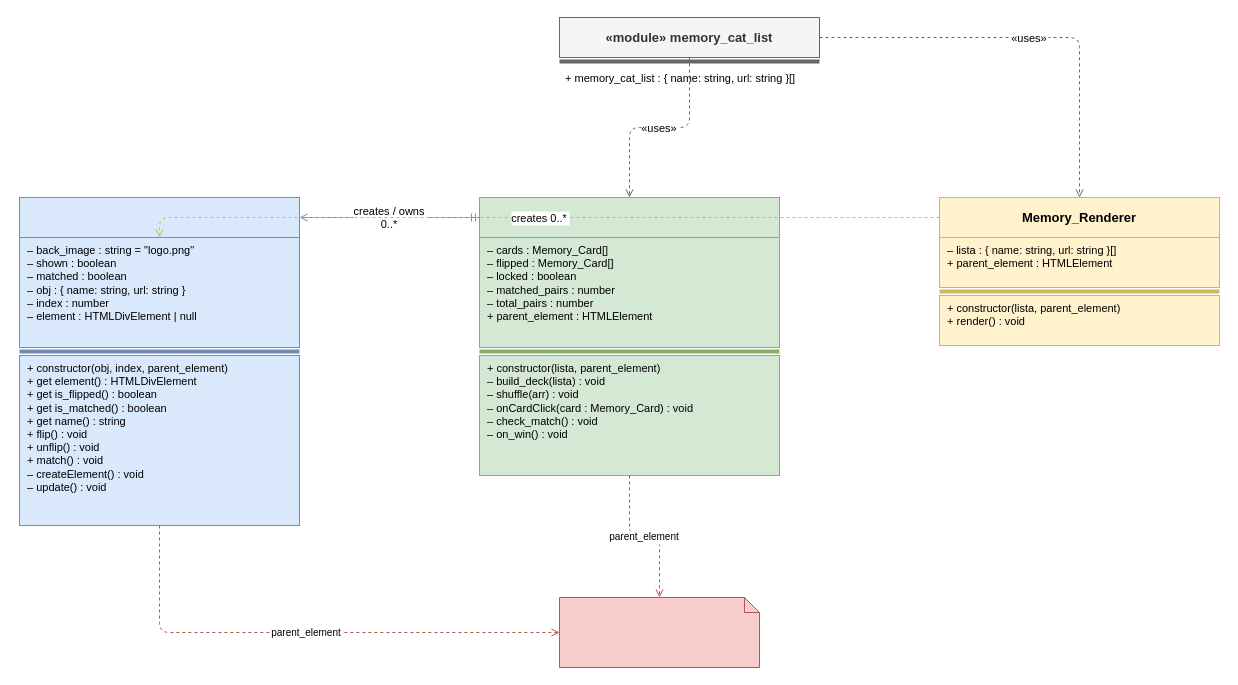
This 1238x685 diagram has some shape labels left out. The shapes that lost their labels are listed below. From the top down, each one's box as (x1, y1, x2, y2) in pixels, then its label:
(18, 196, 300, 238): Memory_Card
(478, 196, 780, 238): Memory_Deck
(558, 596, 760, 668): «external» HTMLElement (#memory_game konténer)
